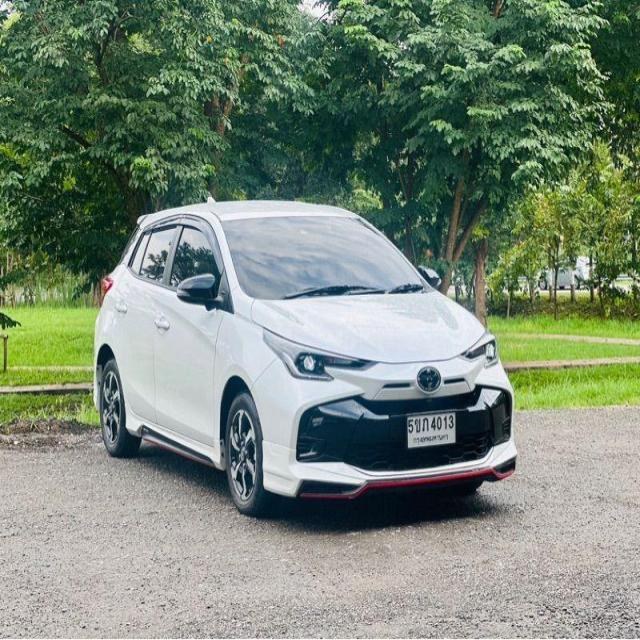Hatchback: (92, 199, 518, 521)
